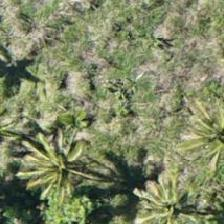coconut_tree: (12, 123, 102, 213), (127, 162, 217, 223)
